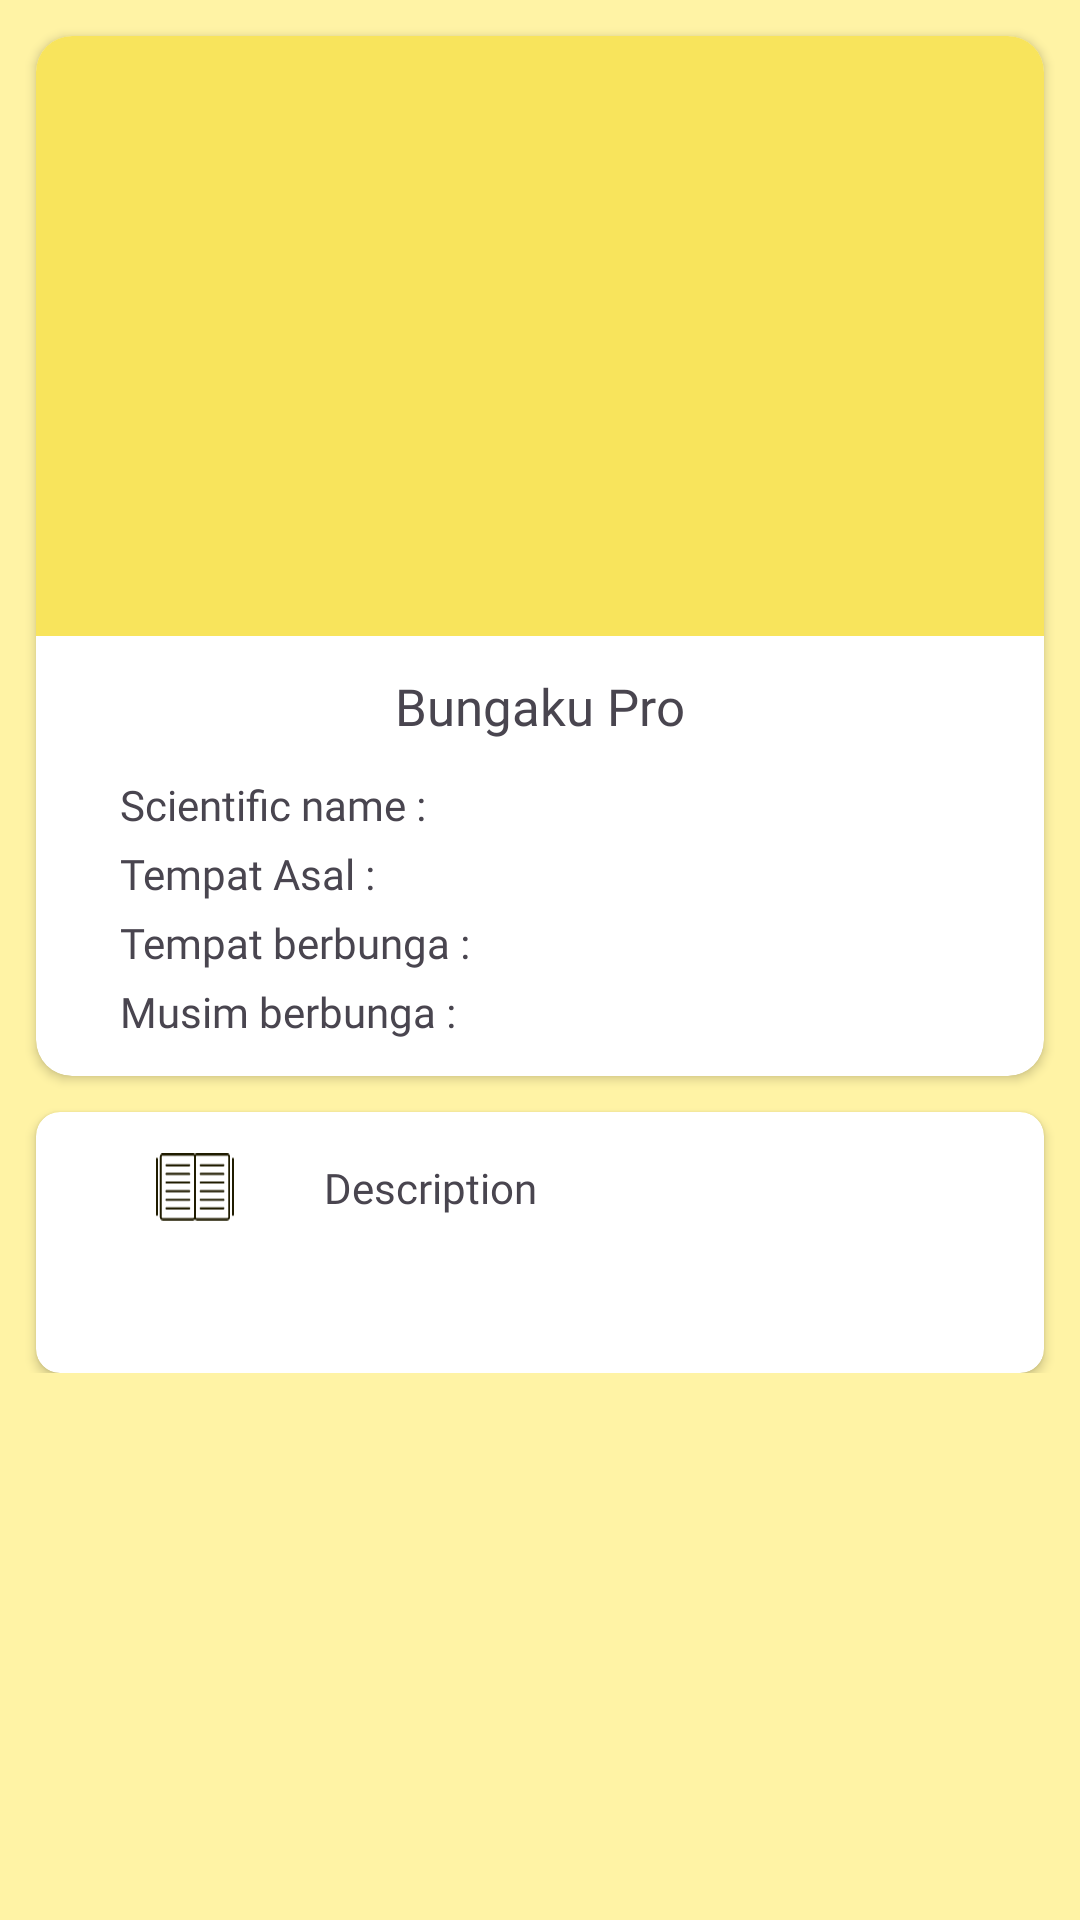

Point at icon controls on the screen. Image size 1080w x 1920h, points as point (x, y).
book: point (195, 1187)
